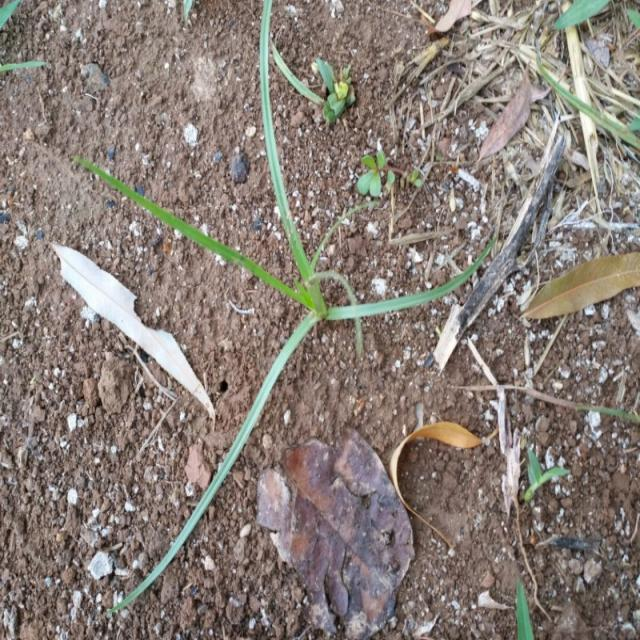sedge: (41, 17, 522, 442)
